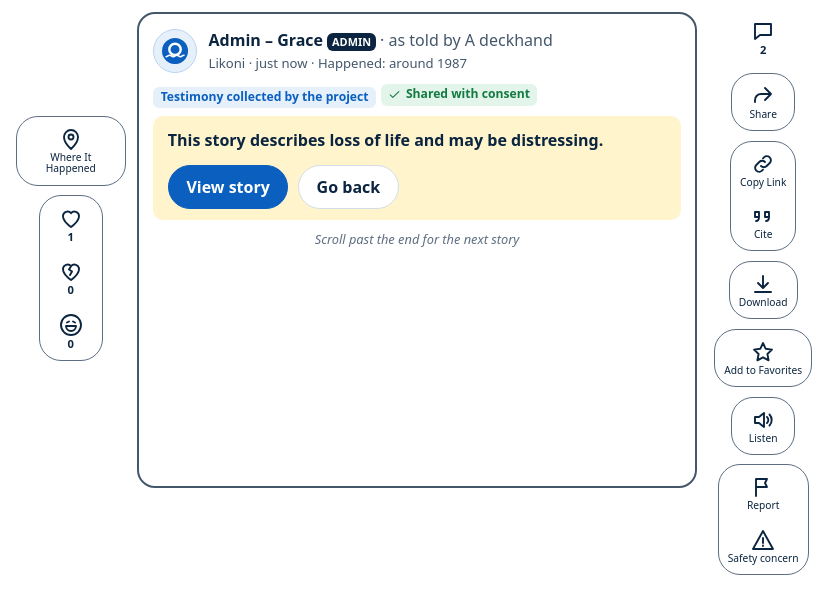
Scenario: story frame › hides a sensitive story behind a notice
Expected: the heading "Night crossings" is not shown
What coordinates should you click on to do the following:
click the button "View story"
I would click on:
 (228, 187)
Its box is [168,165,288,209].
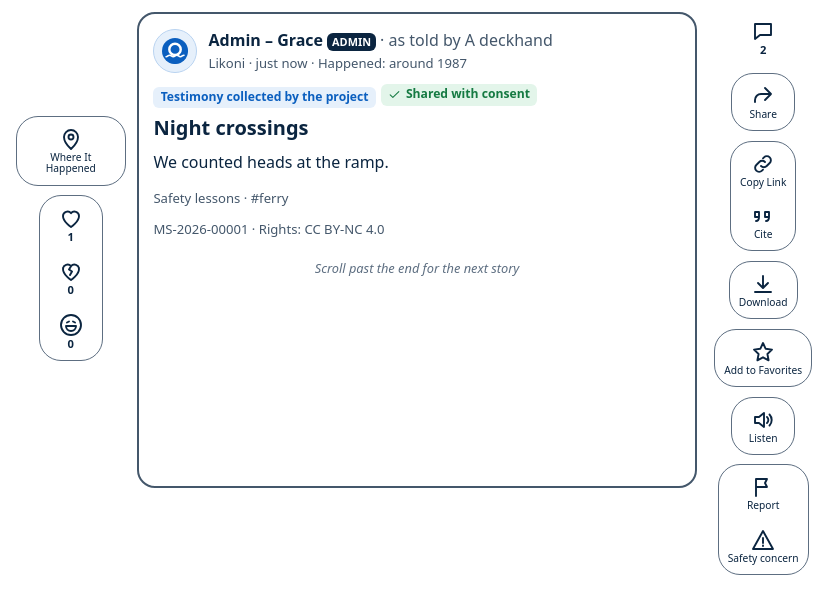
Expected: the heading "Night crossings" is shown, [153,114,308,141]
